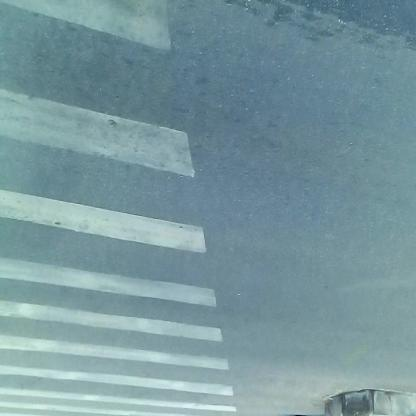crosswalk: (3, 6, 239, 414)
